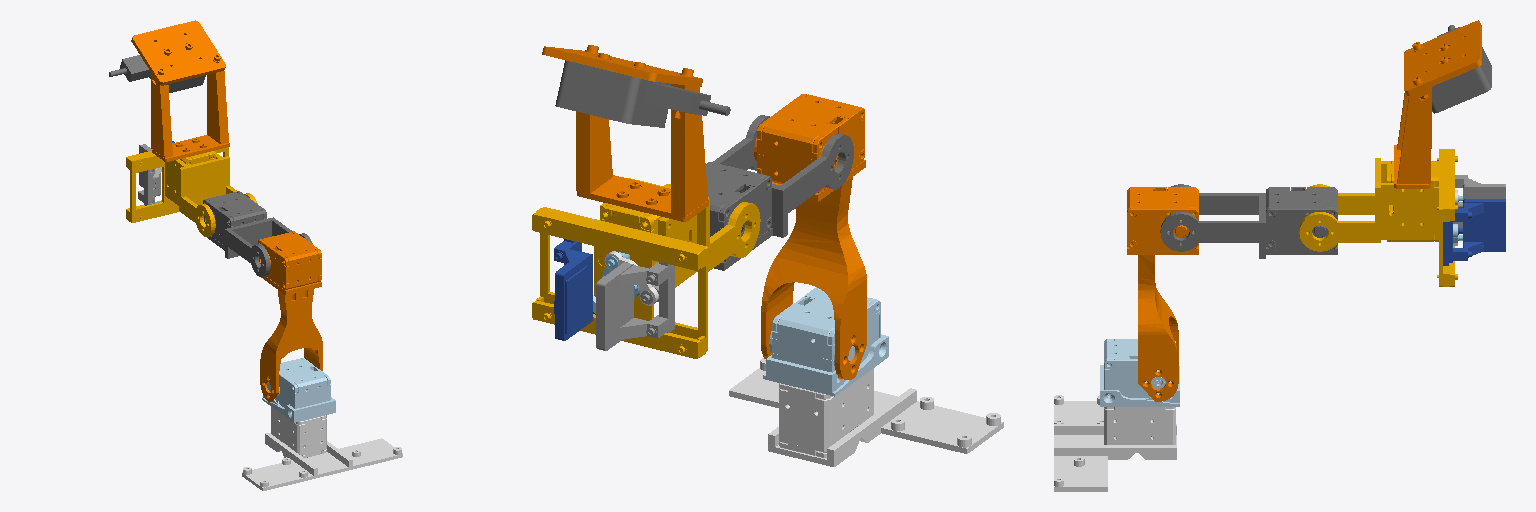
robot.urdf — low_cost_xl430_pg3_d405:
<?xml version="1.0" ?>
<!-- Generated using onshape-to-robot -->
<!-- Onshape https://cad.onshape.com/documents/1f8f316ef4f488303d1c1902/w/ac6b81ffda999cf35e941d15/e/282c9739d5fb8e5aa9a89f3f -->
<robot name="low_cost_xl430_pg3_d405">
  <!-- Link base_link -->
  <link name="base_link">
    <inertial>
      <origin xyz="0 0 0" rpy="0 0 0"/>
      <mass value="0"/>
      <inertia ixx="0" ixy="0" ixz="0" iyy="0" iyz="0" izz="0"/>
    </inertial>
    <!-- Part base_link -->
    <visual>
      <origin xyz="0 0 0" rpy="0 -0 0"/>
      <geometry>
        <mesh filename="package://assets/base_link.stl"/>
      </geometry>
      <material name="base_link_material">
        <color rgba="0.917647 0.917647 0.917647 1"/>
      </material>
    </visual>
    <collision>
      <origin xyz="0 0 0" rpy="0 -0 0"/>
      <geometry>
        <mesh filename="package://assets/base_link.stl"/>
      </geometry>
    </collision>
  </link>
  <!-- Link shoulder_yaw -->
  <link name="shoulder_yaw">
    <inertial>
      <origin xyz="0 0 0" rpy="0 0 0"/>
      <mass value="0"/>
      <inertia ixx="0" ixy="0" ixz="0" iyy="0" iyz="0" izz="0"/>
    </inertial>
    <!-- Part shoulder_yaw -->
    <visual>
      <origin xyz="0 0 0.02" rpy="-3.14159 -0 -0"/>
      <geometry>
        <mesh filename="package://assets/shoulder_yaw.stl"/>
      </geometry>
      <material name="shoulder_yaw_material">
        <color rgba="0.768627 0.886275 0.952941 1"/>
      </material>
    </visual>
    <collision>
      <origin xyz="0 0 0.02" rpy="-3.14159 -0 -0"/>
      <geometry>
        <mesh filename="package://assets/shoulder_yaw.stl"/>
      </geometry>
    </collision>
  </link>
  <!-- Link upper_arm -->
  <link name="upper_arm">
    <inertial>
      <origin xyz="0 0 0" rpy="0 0 0"/>
      <mass value="0"/>
      <inertia ixx="0" ixy="0" ixz="0" iyy="0" iyz="0" izz="0"/>
    </inertial>
    <!-- Part upper_arm -->
    <visual>
      <origin xyz="-0.0563 -0 0.0002" rpy="-3.14159 -1.5708 0"/>
      <geometry>
        <mesh filename="package://assets/upper_arm.stl"/>
      </geometry>
      <material name="upper_arm_material">
        <color rgba="0.972549 0.529412 0.00392157 1"/>
      </material>
    </visual>
    <collision>
      <origin xyz="-0.0563 -0 0.0002" rpy="-3.14159 -1.5708 0"/>
      <geometry>
        <mesh filename="package://assets/upper_arm.stl"/>
      </geometry>
    </collision>
  </link>
  <!-- Link forearm -->
  <link name="forearm">
    <inertial>
      <origin xyz="0 0 0" rpy="0 0 0"/>
      <mass value="0"/>
      <inertia ixx="0" ixy="0" ixz="0" iyy="0" iyz="0" izz="0"/>
    </inertial>
    <!-- Part forearm -->
    <visual>
      <origin xyz="0.1646 0.0148 -0.0002" rpy="-3.14159 1.5708 0"/>
      <geometry>
        <mesh filename="package://assets/forearm.stl"/>
      </geometry>
      <material name="forearm_material">
        <color rgba="0.498039 0.498039 0.498039 1"/>
      </material>
    </visual>
    <collision>
      <origin xyz="0.1646 0.0148 -0.0002" rpy="-3.14159 1.5708 0"/>
      <geometry>
        <mesh filename="package://assets/forearm.stl"/>
      </geometry>
    </collision>
  </link>
  <!-- Link wrist -->
  <link name="wrist">
    <inertial>
      <origin xyz="0 0 0" rpy="0 0 0"/>
      <mass value="0"/>
      <inertia ixx="0" ixy="0" ixz="0" iyy="0" iyz="0" izz="0"/>
    </inertial>
    <!-- Part wrist -->
    <visual>
      <origin xyz="0.1646 0.1049 -0.0002" rpy="3.14159 1.5708 0"/>
      <geometry>
        <mesh filename="package://assets/wrist.stl"/>
      </geometry>
      <material name="wrist_material">
        <color rgba="0.980392 0.713725 0.00392157 1"/>
      </material>
    </visual>
    <collision>
      <origin xyz="0.1646 0.1049 -0.0002" rpy="3.14159 1.5708 0"/>
      <geometry>
        <mesh filename="package://assets/wrist.stl"/>
      </geometry>
    </collision>
  </link>
  <!-- Link gripper_crank -->
  <link name="gripper_crank">
    <inertial>
      <origin xyz="0 0 0" rpy="0 0 0"/>
      <mass value="0"/>
      <inertia ixx="0" ixy="0" ixz="0" iyy="0" iyz="0" izz="0"/>
    </inertial>
    <!-- Part gripper_crank -->
    <visual>
      <origin xyz="0.0002 -0.1646 0.1649" rpy="-1.5708 -0 -0"/>
      <geometry>
        <mesh filename="package://assets/gripper_crank.stl"/>
      </geometry>
      <material name="gripper_crank_material">
        <color rgba="0.615686 0.811765 0.929412 1"/>
      </material>
    </visual>
    <collision>
      <origin xyz="0.0002 -0.1646 0.1649" rpy="-1.5708 -0 -0"/>
      <geometry>
        <mesh filename="package://assets/gripper_crank.stl"/>
      </geometry>
    </collision>
  </link>
  <!-- Link coupler_l -->
  <link name="coupler_l">
    <inertial>
      <origin xyz="0 0 0" rpy="0 0 0"/>
      <mass value="0"/>
      <inertia ixx="0" ixy="0" ixz="0" iyy="0" iyz="0" izz="0"/>
    </inertial>
    <!-- Part coupler_l -->
    <visual>
      <origin xyz="0.0002 -0.1786 0.1649" rpy="-1.5708 -0 -0"/>
      <geometry>
        <mesh filename="package://assets/coupler_l.stl"/>
      </geometry>
      <material name="coupler_l_material">
        <color rgba="0.917647 0.917647 0.917647 1"/>
      </material>
    </visual>
    <collision>
      <origin xyz="0.0002 -0.1786 0.1649" rpy="-1.5708 -0 -0"/>
      <geometry>
        <mesh filename="package://assets/coupler_l.stl"/>
      </geometry>
    </collision>
  </link>
  <!-- Frame closing_left_1 (dummy link + fixed joint) -->
  <link name="closing_left_1">
    <origin xyz="0 0 0" rpy="0 -0 0"/>
    <inertial>
      <origin xyz="0 0 0" rpy="0 0 0"/>
      <mass value="0"/>
      <inertia ixx="0" ixy="0" ixz="0" iyy="0" iyz="0" izz="0"/>
    </inertial>
  </link>
  <joint name="closing_left_1_frame" type="fixed">
    <origin xyz="-0.0194936 -0.014 -0.028" rpy="-3.14159 -0 -0"/>
    <parent link="coupler_l"/>
    <child link="closing_left_1"/>
    <axis xyz="0 0 0"/>
  </joint>
  <!-- Joint from gripper_crank to coupler_l -->
  <joint name="coupler_left" type="revolute">
    <origin xyz="-0 0.014 -0" rpy="-0 -0 -0"/>
    <parent link="gripper_crank"/>
    <child link="coupler_l"/>
    <axis xyz="0 0 1"/>
    <limit effort="0" velocity="0" lower="-3.141592653589793" upper="3.141592653589793"/>
  </joint>
  <!-- Link coupler_r -->
  <link name="coupler_r">
    <inertial>
      <origin xyz="0 0 0" rpy="0 0 0"/>
      <mass value="0"/>
      <inertia ixx="0" ixy="0" ixz="0" iyy="0" iyz="0" izz="0"/>
    </inertial>
    <!-- Part coupler_r -->
    <visual>
      <origin xyz="0.0002 -0.1506 0.1649" rpy="-1.5708 -0 0"/>
      <geometry>
        <mesh filename="package://assets/coupler_r.stl"/>
      </geometry>
      <material name="coupler_r_material">
        <color rgba="0.768627 0.886275 0.952941 1"/>
      </material>
    </visual>
    <collision>
      <origin xyz="0.0002 -0.1506 0.1649" rpy="-1.5708 -0 0"/>
      <geometry>
        <mesh filename="package://assets/coupler_r.stl"/>
      </geometry>
    </collision>
  </link>
  <!-- Frame closing_right_1 (dummy link + fixed joint) -->
  <link name="closing_right_1">
    <origin xyz="0 0 0" rpy="0 -0 0"/>
    <inertial>
      <origin xyz="0 0 0" rpy="0 0 0"/>
      <mass value="0"/>
      <inertia ixx="0" ixy="0" ixz="0" iyy="0" iyz="0" izz="0"/>
    </inertial>
  </link>
  <joint name="closing_right_1_frame" type="fixed">
    <origin xyz="0.0194936 0.014 -0.028" rpy="-3.14159 -0 0"/>
    <parent link="coupler_r"/>
    <child link="closing_right_1"/>
    <axis xyz="0 0 0"/>
  </joint>
  <!-- Joint from gripper_crank to coupler_r -->
  <joint name="coupler_right" type="revolute">
    <origin xyz="0 -0.014 0" rpy="-0 -0 -0"/>
    <parent link="gripper_crank"/>
    <child link="coupler_r"/>
    <axis xyz="0 0 1"/>
    <limit effort="0" velocity="0" lower="-3.141592653589793" upper="3.141592653589793"/>
  </joint>
  <!-- Joint from wrist to gripper_crank -->
  <joint name="gripper_drive" type="revolute">
    <origin xyz="0 -0.06 -0" rpy="-1.5708 1.5708 0"/>
    <parent link="wrist"/>
    <child link="gripper_crank"/>
    <axis xyz="0 0 1"/>
    <limit effort="0" velocity="0" lower="-0.785398" upper="1.13446"/>
  </joint>
  <!-- Link jaw_l -->
  <link name="jaw_l">
    <inertial>
      <origin xyz="0 0 0" rpy="0 0 0"/>
      <mass value="0"/>
      <inertia ixx="0" ixy="0" ixz="0" iyy="0" iyz="0" izz="0"/>
    </inertial>
    <!-- Part jaw_l -->
    <visual>
      <origin xyz="0.1646 0.1649 -0.0002" rpy="3.14159 1.5708 0"/>
      <geometry>
        <mesh filename="package://assets/jaw_l.stl"/>
      </geometry>
      <material name="jaw_l_material">
        <color rgba="0.647059 0.647059 0.647059 1"/>
      </material>
    </visual>
    <collision>
      <origin xyz="0.1646 0.1649 -0.0002" rpy="3.14159 1.5708 0"/>
      <geometry>
        <mesh filename="package://assets/jaw_l.stl"/>
      </geometry>
    </collision>
  </link>
  <!-- Frame closing_left_2 (dummy link + fixed joint) -->
  <link name="closing_left_2">
    <origin xyz="0 0 0" rpy="0 -0 0"/>
    <inertial>
      <origin xyz="0 0 0" rpy="0 0 0"/>
      <mass value="0"/>
      <inertia ixx="0" ixy="0" ixz="0" iyy="0" iyz="0" izz="0"/>
    </inertial>
  </link>
  <joint name="closing_left_2_frame" type="fixed">
    <origin xyz="0 -0.028 0.0194936" rpy="1.5708 1.5708 0"/>
    <parent link="jaw_l"/>
    <child link="closing_left_2"/>
    <axis xyz="0 0 0"/>
  </joint>
  <!-- Joint from wrist to jaw_l -->
  <joint name="jaw_left" type="prismatic">
    <origin xyz="0 -0.06 -0" rpy="0 -0 0"/>
    <parent link="wrist"/>
    <child link="jaw_l"/>
    <axis xyz="0 0 1"/>
    <limit effort="0" velocity="0" lower="-0.00752987" upper="0.016454"/>
  </joint>
  <!-- Link jaw_r -->
  <link name="jaw_r">
    <inertial>
      <origin xyz="0 0 0" rpy="0 0 0"/>
      <mass value="0"/>
      <inertia ixx="0" ixy="0" ixz="0" iyy="0" iyz="0" izz="0"/>
    </inertial>
    <!-- Part jaw_r -->
    <visual>
      <origin xyz="0.1646 0.1649 -0.0002" rpy="3.14159 1.5708 0"/>
      <geometry>
        <mesh filename="package://assets/jaw_r.stl"/>
      </geometry>
      <material name="jaw_r_material">
        <color rgba="0.231373 0.380392 0.705882 1"/>
      </material>
    </visual>
    <collision>
      <origin xyz="0.1646 0.1649 -0.0002" rpy="3.14159 1.5708 0"/>
      <geometry>
        <mesh filename="package://assets/jaw_r.stl"/>
      </geometry>
    </collision>
  </link>
  <!-- Frame closing_right_2 (dummy link + fixed joint) -->
  <link name="closing_right_2">
    <origin xyz="0 0 0" rpy="0 -0 0"/>
    <inertial>
      <origin xyz="0 0 0" rpy="0 0 0"/>
      <mass value="0"/>
      <inertia ixx="0" ixy="0" ixz="0" iyy="0" iyz="0" izz="0"/>
    </inertial>
  </link>
  <joint name="closing_right_2_frame" type="fixed">
    <origin xyz="0 -0.028 -0.0194936" rpy="1.5708 1.5708 0"/>
    <parent link="jaw_r"/>
    <child link="closing_right_2"/>
    <axis xyz="0 0 0"/>
  </joint>
  <!-- Joint from wrist to jaw_r -->
  <joint name="jaw_right" type="prismatic">
    <origin xyz="0 -0.06 -0" rpy="0 -0 0"/>
    <parent link="wrist"/>
    <child link="jaw_r"/>
    <axis xyz="0 0 1"/>
    <limit effort="0" velocity="0" lower="-0.016454" upper="0.00752987"/>
  </joint>
  <!-- Link camera_mount -->
  <link name="camera_mount">
    <inertial>
      <origin xyz="0 0 0" rpy="0 0 0"/>
      <mass value="0"/>
      <inertia ixx="0" ixy="0" ixz="0" iyy="0" iyz="0" izz="0"/>
    </inertial>
    <!-- Part camera_mount -->
    <visual>
      <origin xyz="0.0002 0.1649 0.19985" rpy="-3.14159 0 -0"/>
      <geometry>
        <mesh filename="package://assets/camera_mount.stl"/>
      </geometry>
      <material name="camera_mount_material">
        <color rgba="0.972549 0.529412 0.00392157 1"/>
      </material>
    </visual>
    <collision>
      <origin xyz="0.0002 0.1649 0.19985" rpy="-3.14159 0 -0"/>
      <geometry>
        <mesh filename="package://assets/camera_mount.stl"/>
      </geometry>
    </collision>
  </link>
  <!-- Link camera_body -->
  <link name="camera_body">
    <inertial>
      <origin xyz="0 0 0" rpy="0 0 0"/>
      <mass value="0"/>
      <inertia ixx="0" ixy="0" ixz="0" iyy="0" iyz="0" izz="0"/>
    </inertial>
    <!-- Part camera_body -->
    <visual>
      <origin xyz="0.0002 0.197 0.257" rpy="3.14159 0 -0"/>
      <geometry>
        <mesh filename="package://assets/camera_body.stl"/>
      </geometry>
      <material name="camera_body_material">
        <color rgba="0.498039 0.498039 0.498039 1"/>
      </material>
    </visual>
    <collision>
      <origin xyz="0.0002 0.197 0.257" rpy="3.14159 0 -0"/>
      <geometry>
        <mesh filename="package://assets/camera_body.stl"/>
      </geometry>
    </collision>
  </link>
  <!-- Joint from camera_mount to camera_body -->
  <joint name="camera_body_fixed" type="fixed">
    <origin xyz="-0 -0.0321 -0.05715" rpy="0 0 -0"/>
    <parent link="camera_mount"/>
    <child link="camera_body"/>
    <axis xyz="0 0 1"/>
    <limit effort="0" velocity="0"/>
  </joint>
  <!-- Joint from wrist to camera_mount -->
  <joint name="camera_mount_fixed" type="fixed">
    <origin xyz="-0.03525 -0.06 -0" rpy="-0 1.5708 0"/>
    <parent link="wrist"/>
    <child link="camera_mount"/>
    <axis xyz="0 0 1"/>
    <limit effort="0" velocity="0"/>
  </joint>
  <!-- Joint from forearm to wrist -->
  <joint name="joint4_wrist" type="revolute">
    <origin xyz="-0 -0.0901 0" rpy="-0 0 -0"/>
    <parent link="forearm"/>
    <child link="wrist"/>
    <axis xyz="0 0 1"/>
    <limit effort="0" velocity="0" lower="-1.91986" upper="2.40855"/>
  </joint>
  <!-- Joint from upper_arm to forearm -->
  <joint name="joint3_elbow" type="revolute">
    <origin xyz="0.1083 -0.0148 0" rpy="-3.14159 0 -3.14159"/>
    <parent link="upper_arm"/>
    <child link="forearm"/>
    <axis xyz="0 0 1"/>
    <limit effort="0" velocity="0" lower="-3.141592653589793" upper="3.141592653589793"/>
  </joint>
  <!-- Joint from shoulder_yaw to upper_arm -->
  <joint name="joint2_shoulder" type="revolute">
    <origin xyz="-0.0002 0 -0.0363" rpy="0 1.5708 0"/>
    <parent link="shoulder_yaw"/>
    <child link="upper_arm"/>
    <axis xyz="0 0 1"/>
    <limit effort="0" velocity="0" lower="-3.141592653589793" upper="3.141592653589793"/>
  </joint>
  <!-- Joint from base_link to shoulder_yaw -->
  <joint name="joint1_yaw" type="revolute">
    <origin xyz="0 0 0.02" rpy="3.14159 -0 0"/>
    <parent link="base_link"/>
    <child link="shoulder_yaw"/>
    <axis xyz="0 0 1"/>
    <limit effort="0" velocity="0" lower="-3.141592653589793" upper="3.141592653589793"/>
  </joint>
</robot>

--- Render facts (derived) ---
The picture shows the robot from 3 angles, left to right: view 1: azimuth 30°, elevation 25°; view 2: azimuth 150°, elevation 25°; view 3: azimuth 270°, elevation 25°; orthographic projection.
Robot: low_cost_xl430_pg3_d405 — 16 links, 15 joints (7 revolute, 2 prismatic, 6 fixed); root link base_link; default pose: all joints at 0.
Links seen in each view (by area): view 1: camera_mount, upper_arm, base_link, wrist, forearm, shoulder_yaw, camera_body, jaw_l; view 2: upper_arm, wrist, base_link, camera_mount, forearm, shoulder_yaw, camera_body, jaw_l, jaw_r; view 3: wrist, base_link, upper_arm, forearm, camera_mount, shoulder_yaw, jaw_r, camera_body, jaw_l.
Boxes of the visible links, box(x1,y1,x2,y2) form: camera_mount: box(131, 20, 229, 161); upper_arm: box(258, 231, 322, 402); base_link: box(242, 407, 402, 490); wrist: box(126, 147, 257, 236); forearm: box(203, 191, 312, 276); shoulder_yaw: box(262, 358, 335, 422); camera_body: box(109, 55, 205, 92); jaw_l: box(138, 144, 161, 205); upper_arm: box(754, 94, 866, 379); wrist: box(532, 178, 760, 358); base_link: box(729, 358, 1003, 466); camera_mount: box(542, 45, 708, 221); forearm: box(706, 115, 853, 270); shoulder_yaw: box(763, 287, 888, 396); camera_body: box(555, 60, 730, 127); jaw_l: box(596, 262, 674, 350); jaw_r: box(554, 239, 595, 340); wrist: box(1299, 149, 1457, 286); base_link: box(1054, 395, 1176, 491); upper_arm: box(1127, 187, 1198, 401); forearm: box(1160, 184, 1337, 258); camera_mount: box(1394, 20, 1481, 188); shoulder_yaw: box(1100, 339, 1179, 406); jaw_r: box(1443, 199, 1505, 265); camera_body: box(1432, 25, 1491, 113); jaw_l: box(1453, 175, 1505, 227).
Bounding box of the posed robot: 0.133 × 0.2936 × 0.292 m (x, y, z).
Meshes: 12 distinct files referenced, 12 mesh visuals loaded (12 binary STL).
